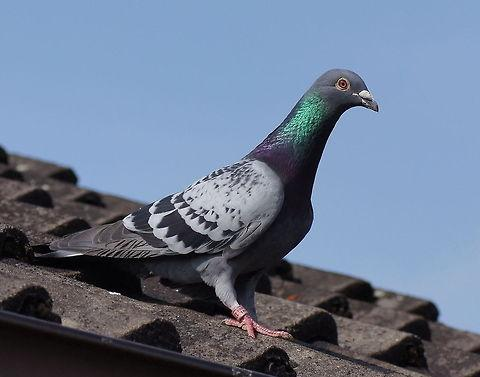Flying Rat: (43, 66, 381, 345)
